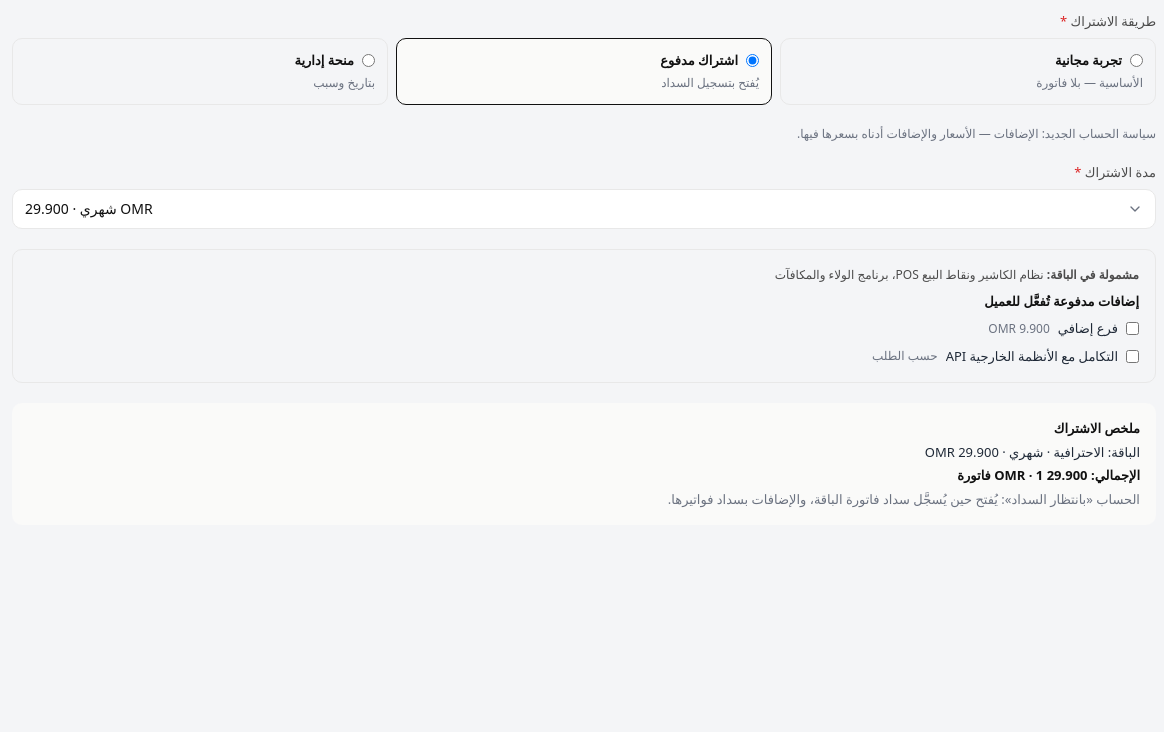
Test: a merchant opened by the Abaad team › an add-on on request has no total until its price is written
Click the checkbox labelled "التكامل مع الأنظمة الخارجية API حسب الطلب" at (1132, 356), box [1126,350,1139,363]
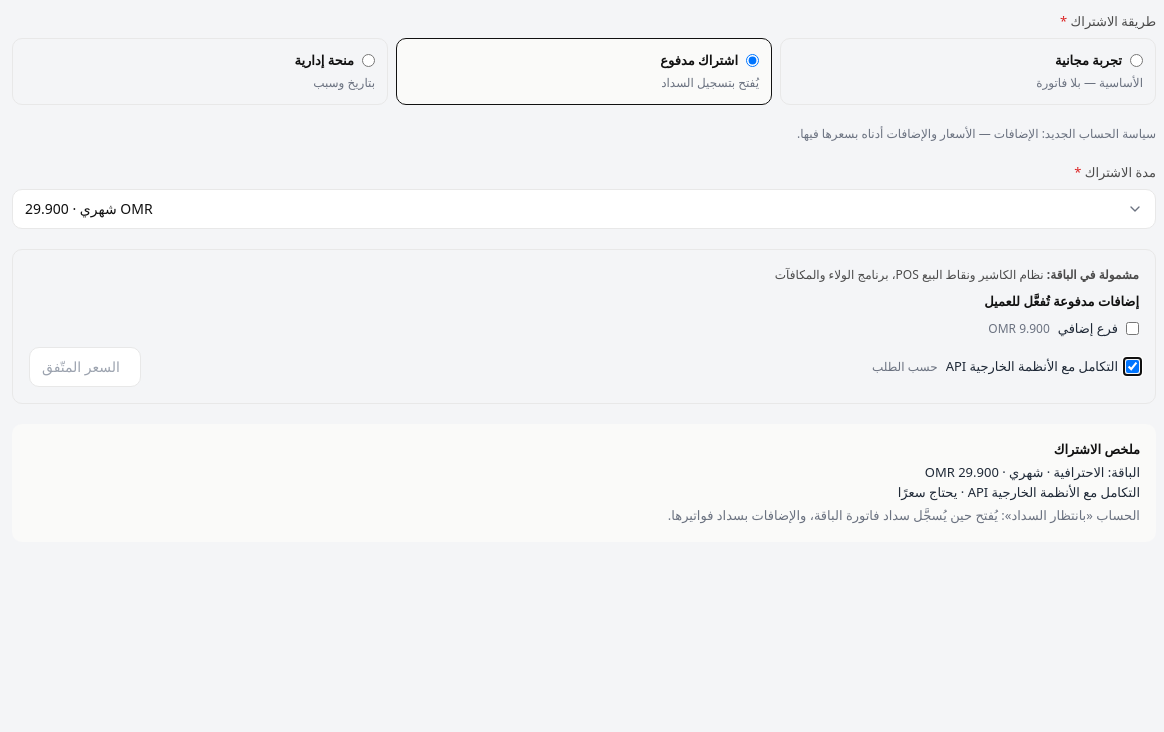
Result: the element with test id "new-subscription-summary" shows "يحتاج سعرًا" at [898,482,957,500]
Result: the text with test id "new-subscription-total" is gone
Type "15" into the field named "سعر الوحدة" at (85, 366), box [29,346,141,386]
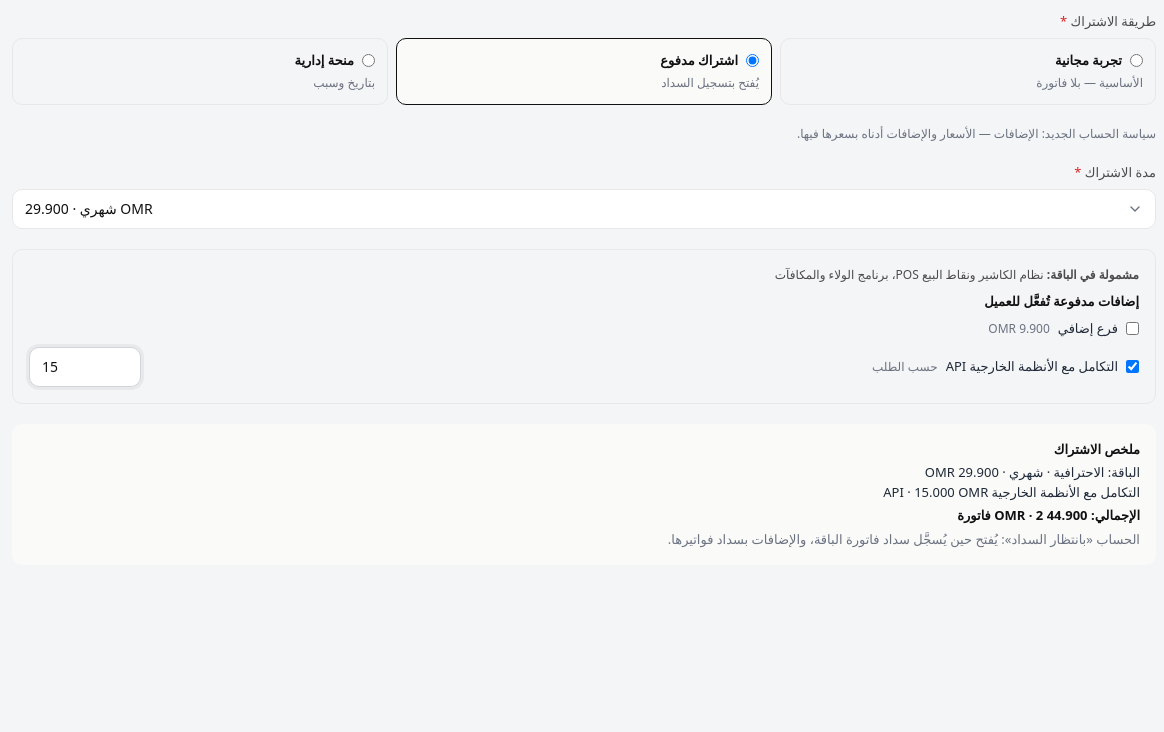
Result: the text with test id "new-subscription-total" shows "44.900" at [994,506,1088,524]
